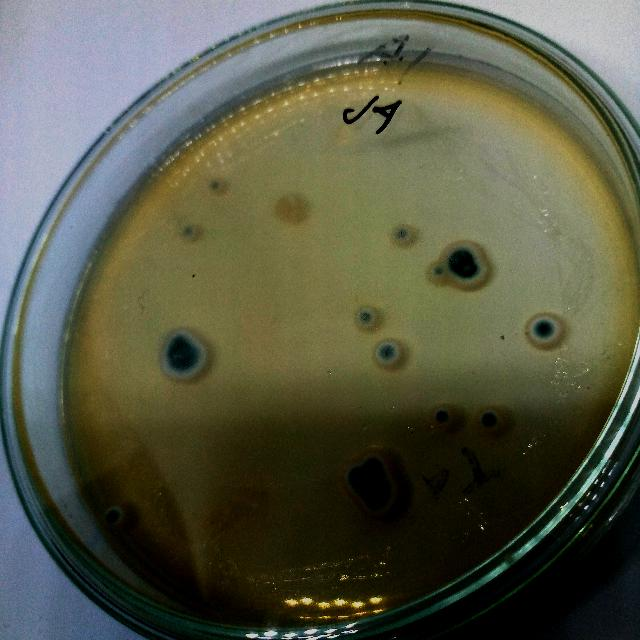colony: (154, 329, 212, 385), (357, 479, 403, 523), (270, 186, 316, 228), (521, 309, 569, 349), (437, 235, 485, 272), (451, 257, 494, 291), (472, 403, 508, 437), (369, 336, 405, 370), (173, 217, 203, 249), (360, 452, 390, 483), (98, 500, 128, 530), (429, 403, 456, 433), (388, 221, 418, 247), (350, 304, 378, 330), (344, 464, 368, 494), (426, 256, 450, 282), (202, 176, 225, 198)
